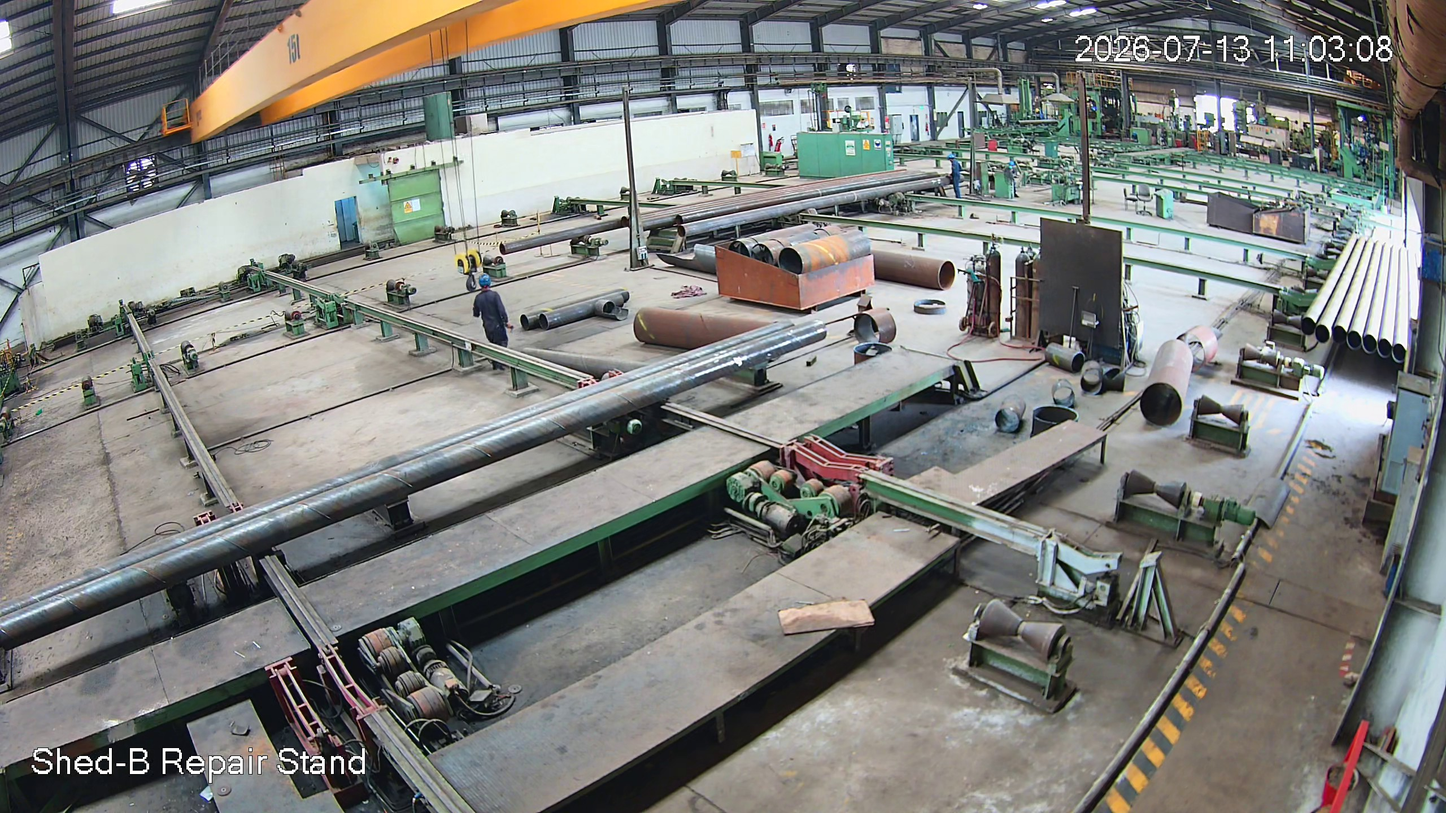Helmet: (477, 272, 494, 293)
Person: (472, 273, 513, 344)
